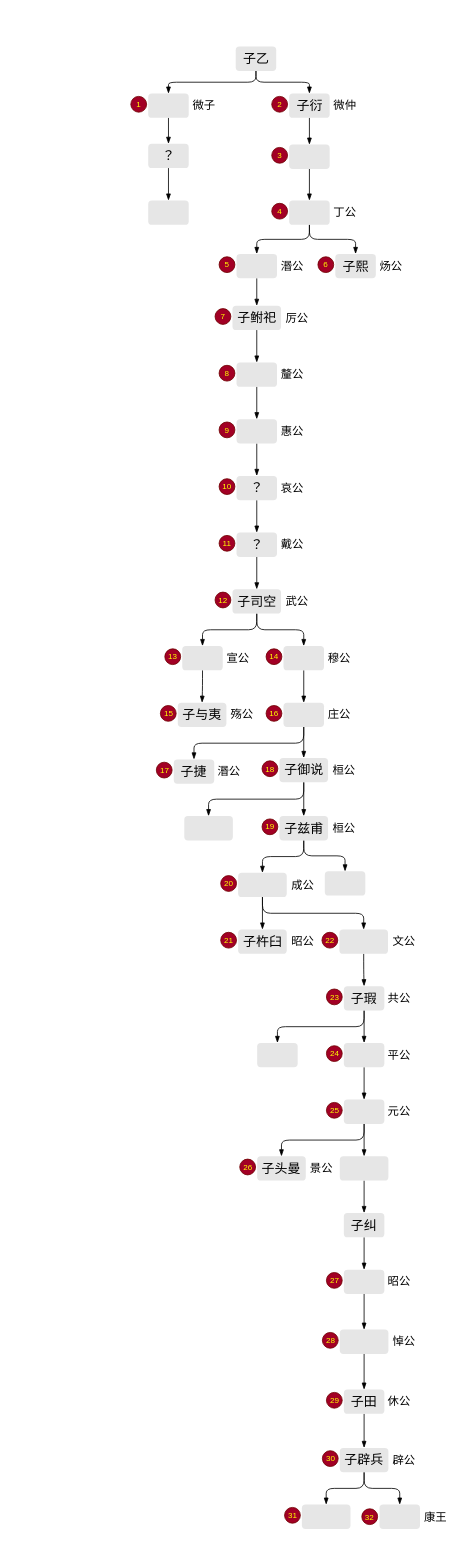
Image size: 473x1567. Some labels were removed from this diagram. The box of each missing label's shape, as (x1, y1, x2, y2) in pixels:
子 褍秦: (339, 1156, 388, 1180)
子 覵: (236, 419, 277, 443)
子举: (236, 362, 277, 386)
子佐: (343, 1099, 384, 1123)
子偃: (379, 1504, 420, 1528)
子共: (236, 254, 277, 278)
子冯: (283, 702, 324, 727)
子剔成: (301, 1504, 350, 1528)
子力: (182, 646, 222, 670)
子启: (148, 93, 188, 117)
子和: (283, 646, 324, 670)
子御: (324, 871, 365, 895)
子成: (343, 1042, 384, 1067)
子特: (343, 1269, 384, 1294)
子王臣: (238, 872, 286, 897)
子申: (289, 200, 329, 224)
子目夷: (184, 816, 232, 840)
子稽: (289, 144, 329, 168)
子肥: (257, 1042, 297, 1067)
子腯: (148, 200, 188, 224)
子购由: (339, 1329, 388, 1354)
子鲍革: (339, 929, 388, 953)
